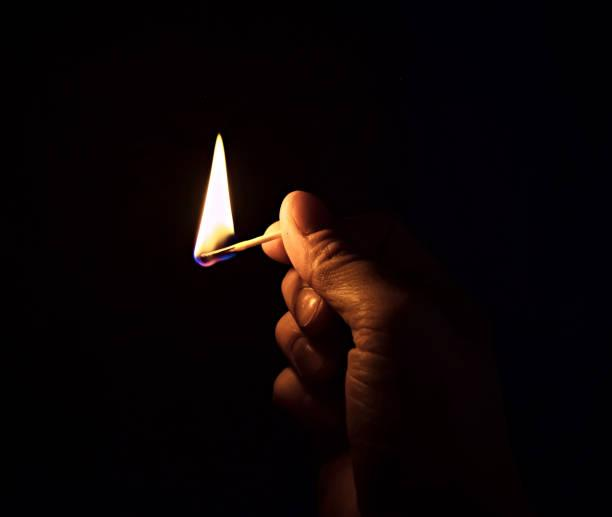Fire: (192, 129, 237, 271)
